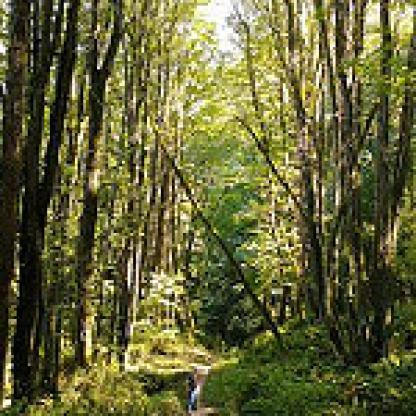road: (180, 352, 228, 413)
trunk: (17, 0, 83, 391), (285, 0, 333, 328), (0, 0, 36, 405), (72, 69, 111, 364), (333, 0, 355, 358), (352, 0, 366, 358), (377, 0, 391, 355)
